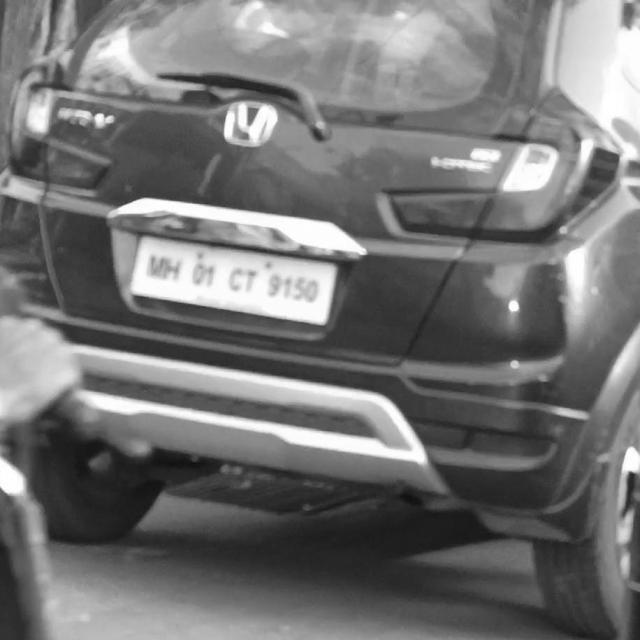license-plate: (129, 233, 341, 326)
